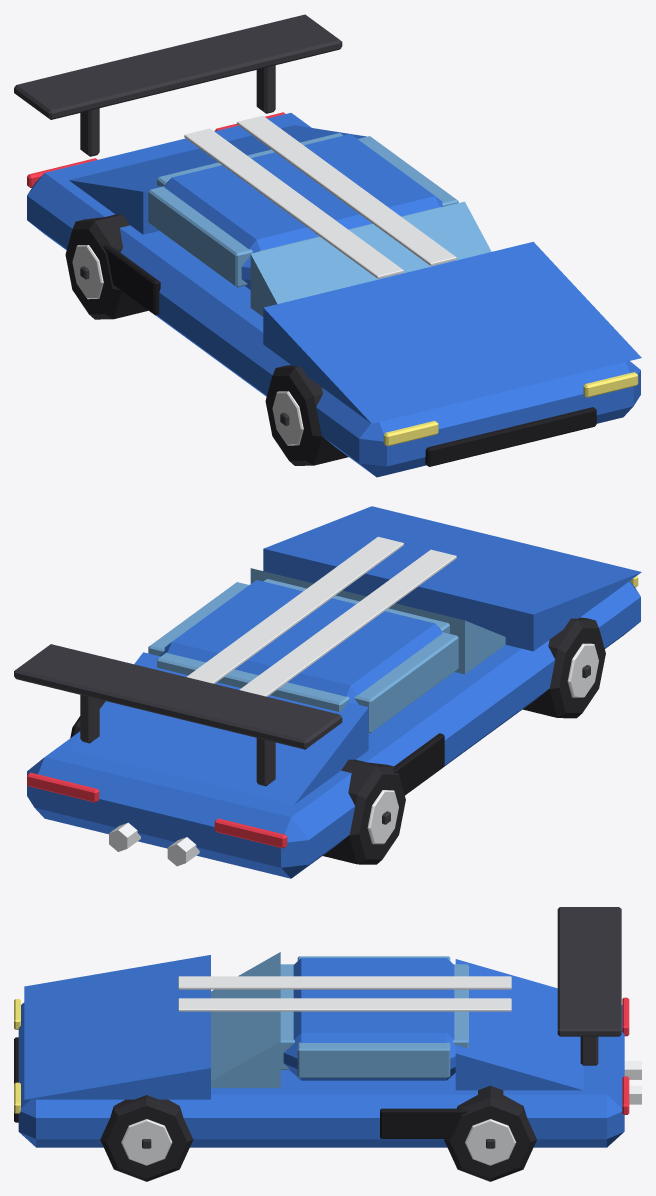
The model's file is StripedSupercar.fbx.
3 views of the same model, one above another, from view 1: azimuth 30°, elevation 25°; view 2: azimuth 150°, elevation 25°; view 3: azimuth 270°, elevation 25° (orthographic). The views are drawn at different scales.
Parts seen in each view (by area): view 1: StripedSupercar, StripedSupercar_WheelBR, StripedSupercar_WheelFR; view 2: StripedSupercar, StripedSupercar_WheelBR, StripedSupercar_WheelFR; view 3: StripedSupercar, StripedSupercar_WheelBL, StripedSupercar_WheelFL.
Boxes of the visible parts, x1,y1,x2,y2 form: StripedSupercar: (14, 14, 641, 477); StripedSupercar_WheelBR: (65, 214, 148, 319); StripedSupercar_WheelFR: (265, 365, 348, 465); StripedSupercar: (14, 506, 641, 878); StripedSupercar_WheelBR: (323, 759, 405, 864); StripedSupercar_WheelFR: (523, 617, 605, 718); StripedSupercar: (14, 907, 641, 1147); StripedSupercar_WheelBL: (444, 1085, 536, 1181); StripedSupercar_WheelFL: (100, 1095, 193, 1181).
Size of the model in its own units: 5.22 by 2.94 by 10.78.
1 material, 1 textured.
